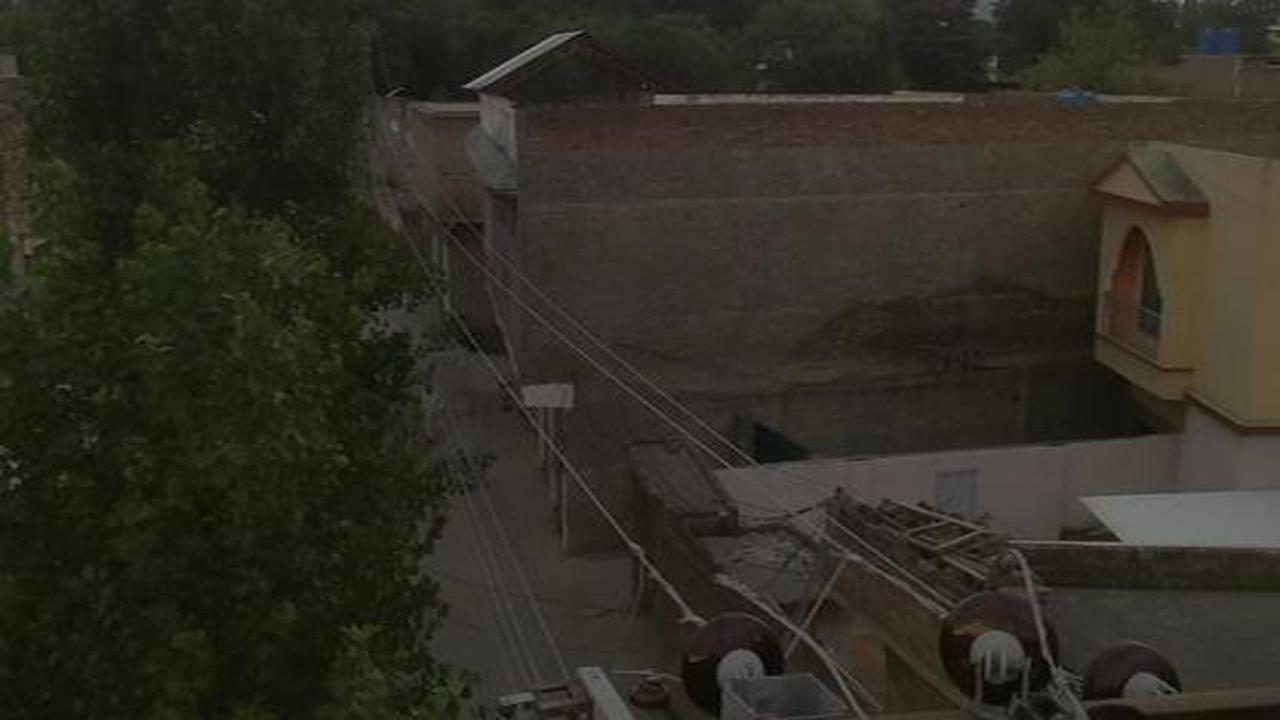insulator_disc: (937, 587, 1059, 692), (679, 615, 787, 694), (1085, 640, 1184, 707)
